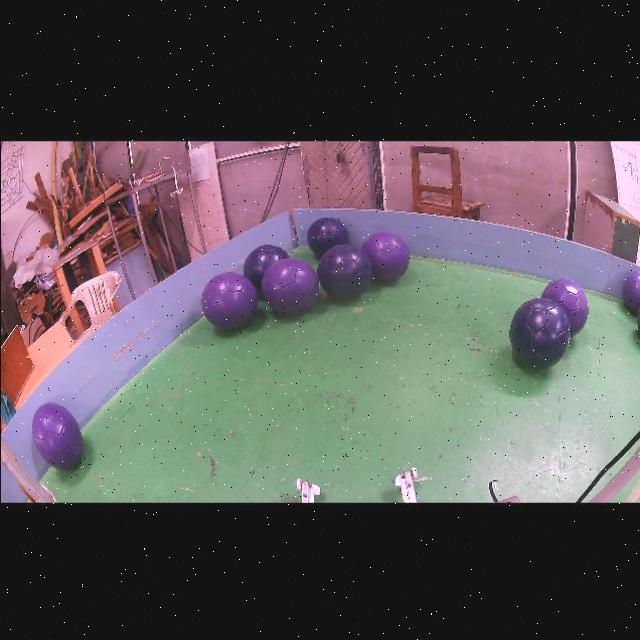B: (508, 296, 570, 368), (316, 244, 371, 299), (242, 245, 288, 291), (306, 217, 347, 256), (636, 303, 640, 339)
P: (31, 402, 82, 470), (200, 271, 257, 329), (260, 257, 318, 314), (541, 277, 587, 335), (360, 231, 409, 281), (623, 271, 640, 314)
